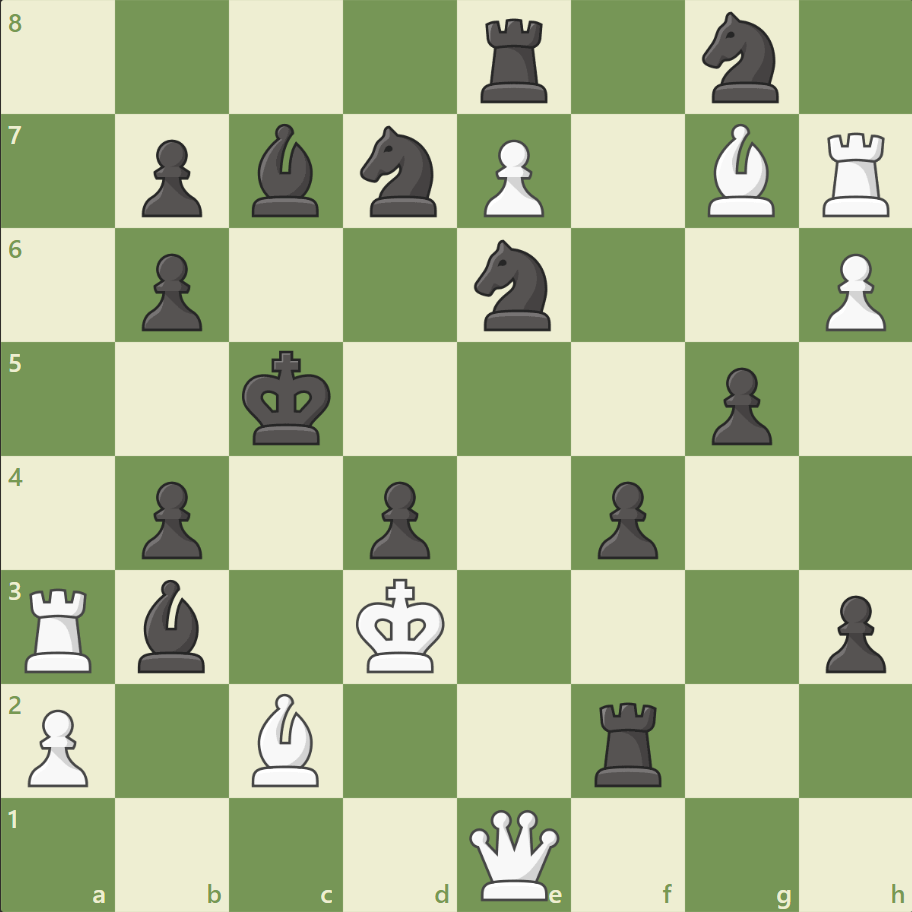B: (244, 687, 328, 790), (698, 120, 782, 222)
K: (351, 571, 451, 679)
P: (474, 132, 549, 223), (20, 700, 95, 791), (815, 246, 889, 337)
Q: (464, 804, 563, 903)
R: (814, 125, 897, 222), (19, 579, 102, 676)
b: (244, 120, 328, 222), (131, 574, 215, 676)
k: (238, 344, 338, 452)
n: (351, 121, 449, 223), (692, 7, 789, 110), (465, 234, 562, 337)
p: (133, 132, 208, 223), (133, 246, 208, 337), (701, 359, 776, 450), (133, 473, 208, 564), (361, 473, 435, 564), (588, 473, 662, 564), (815, 586, 889, 677)
r: (473, 12, 556, 109), (587, 693, 670, 790)
